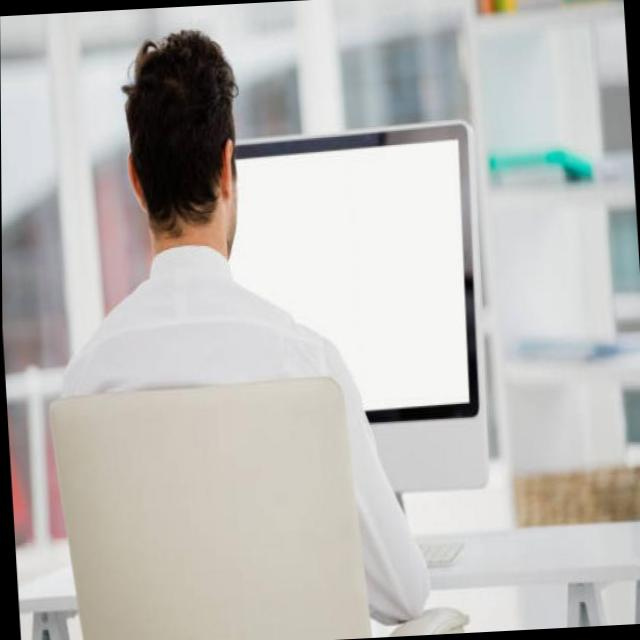no helmet: (100, 18, 267, 290)
